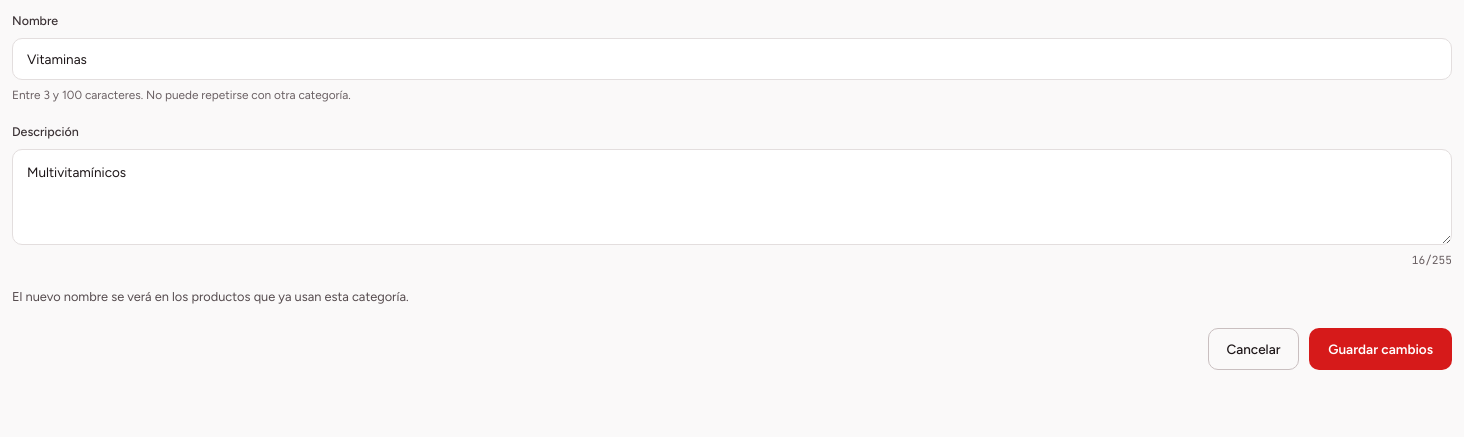
EditCategoryForm › validates like the registration
The width and height of the screenshot is (1464, 437).
Replace the text in the field labelled "Nombre" with "Vi" at [732, 59], box top-left (12, 38), bottom-right (1452, 80)
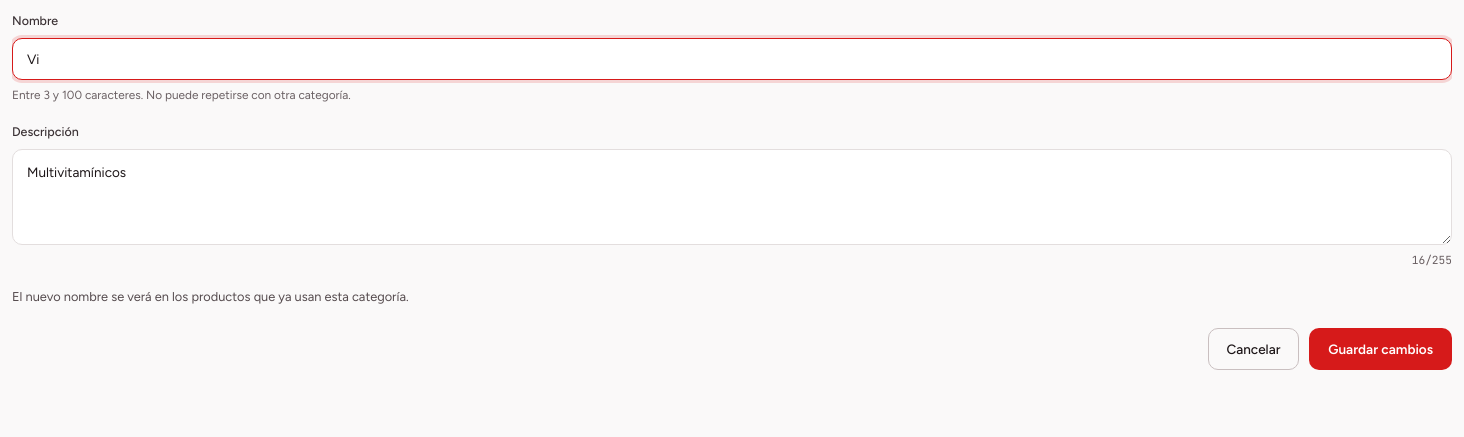
Clear the text box labelled "Descripción" at [732, 197], box top-left (12, 149), bottom-right (1452, 245)
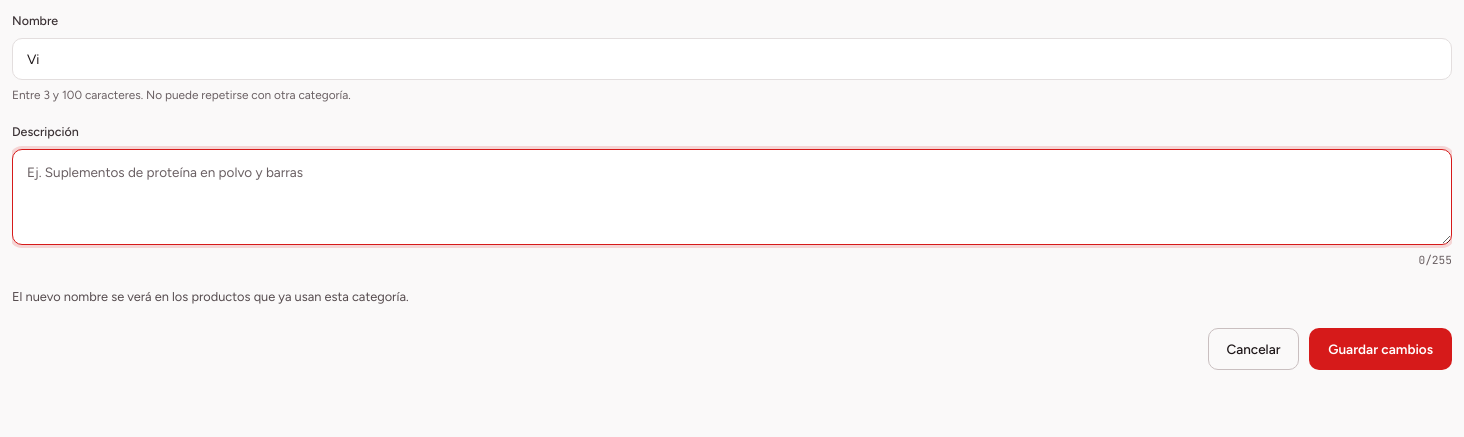
Click the button "Guardar cambios".
click(1381, 349)  # box top-left (1309, 328), bottom-right (1452, 370)
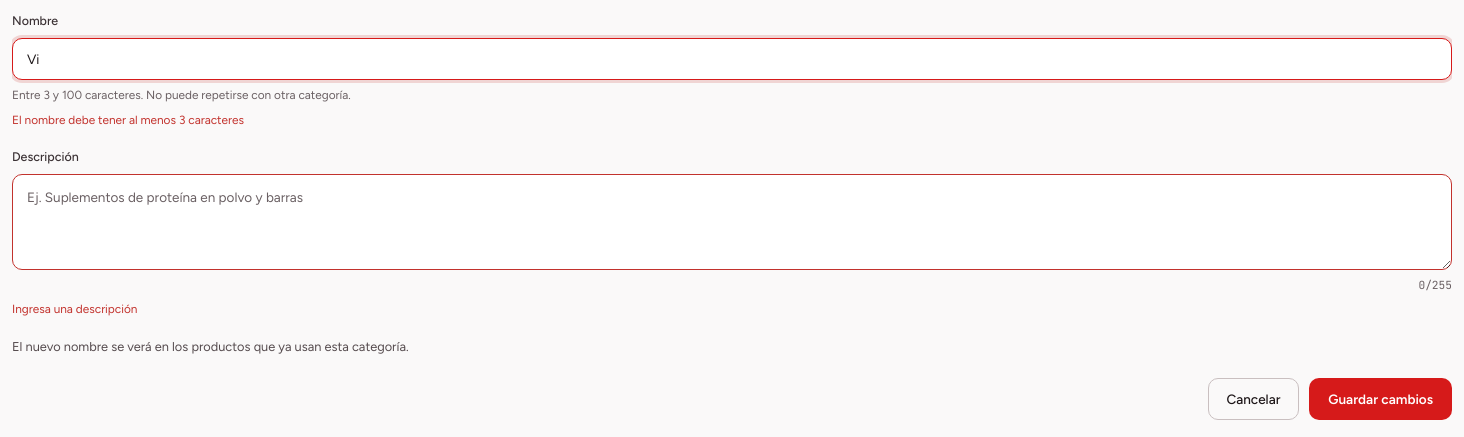
Expected: the text "El nombre debe tener al menos 3 caracteres" is shown, top-left (12, 113), bottom-right (244, 127)
Expected: the text "Ingresa una descripción" is shown, top-left (12, 302), bottom-right (138, 316)
